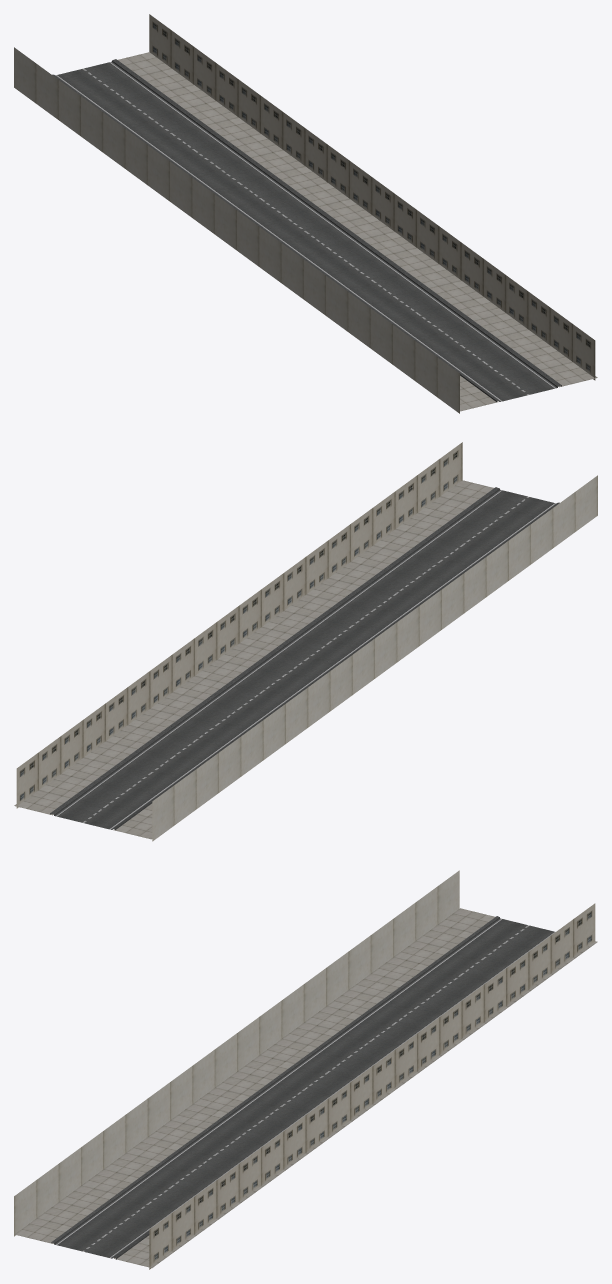
Rendered from aaad.glb.
The picture shows the model from 3 angles, top to bottom: view 1: azimuth 30°, elevation 25°; view 2: azimuth 150°, elevation 25°; view 3: azimuth 330°, elevation 25°; orthographic projection.
Visible parts, largest first — view 1: Plane, Plane.002, Plane.001, Plane.004, Plane.003; view 2: Plane, Plane.002, Plane.001, Plane.004, Plane.003; view 3: Plane, Plane.002, Plane.001, Plane.003, Plane.004.
Part boxes in pixels (box(x1,y1,x2,y2)): Plane: box(52, 59, 561, 401); Plane.002: box(14, 47, 459, 413); Plane.001: box(149, 14, 595, 380); Plane.004: box(118, 52, 597, 387); Plane.003: box(460, 375, 498, 411); Plane: box(50, 487, 559, 830); Plane.002: box(152, 475, 597, 841); Plane.001: box(16, 442, 462, 808); Plane.004: box(14, 480, 493, 815); Plane.003: box(113, 803, 152, 839); Plane: box(51, 916, 555, 1259); Plane.002: box(14, 870, 459, 1236); Plane.001: box(149, 903, 595, 1269); Plane.003: box(15, 908, 494, 1243); Plane.004: box(114, 941, 597, 1267).
Size of the model in its own units: 28.63 by 8 by 160.
Materials: 5 (5 with a texture image).
